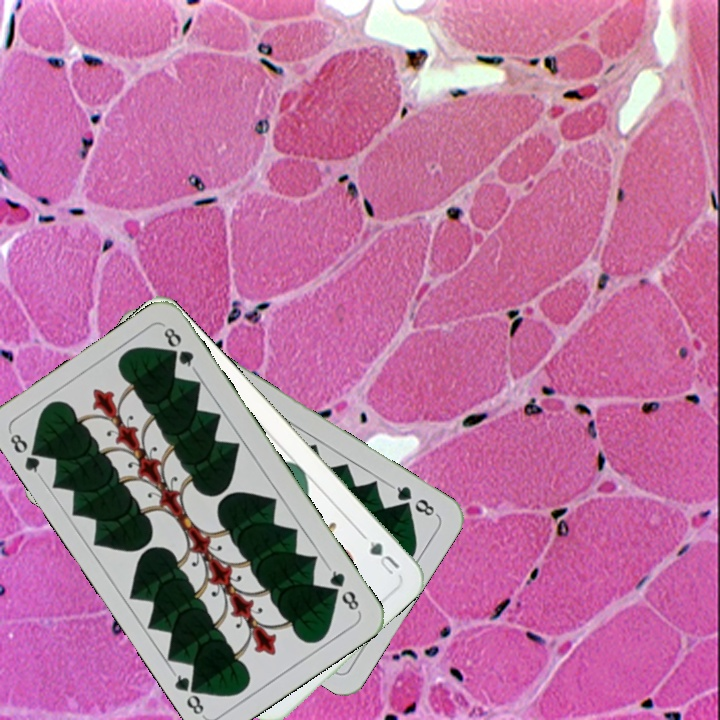G8: (4, 428, 47, 481), (387, 481, 440, 520), (324, 563, 363, 615)
GU: (365, 536, 403, 578)
